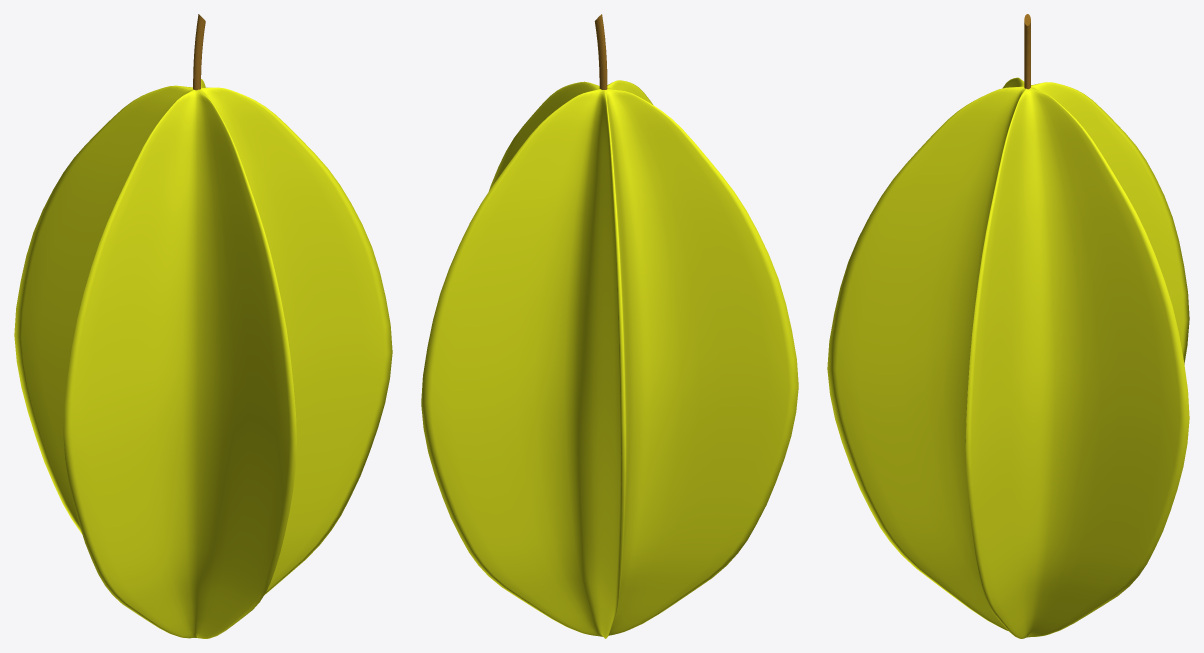
File: starfruit.fbx
3 views of the same model, side by side, from view 1: azimuth 30°, elevation 25°; view 2: azimuth 150°, elevation 25°; view 3: azimuth 270°, elevation 25° (orthographic).
Parts seen in each view (by area): view 1: 円, 円柱.001; view 2: 円, 円柱.001; view 3: 円, 円柱.001.
Boxes of the visible parts, bbox=[...] form: 円: bbox=[14, 79, 392, 638]; 円柱.001: bbox=[193, 14, 205, 90]; 円: bbox=[421, 80, 798, 638]; 円柱.001: bbox=[594, 14, 607, 89]; 円: bbox=[827, 77, 1189, 638]; 円柱.001: bbox=[1024, 14, 1030, 89].
Size of the model in its own units: 291 by 526 by 277.
